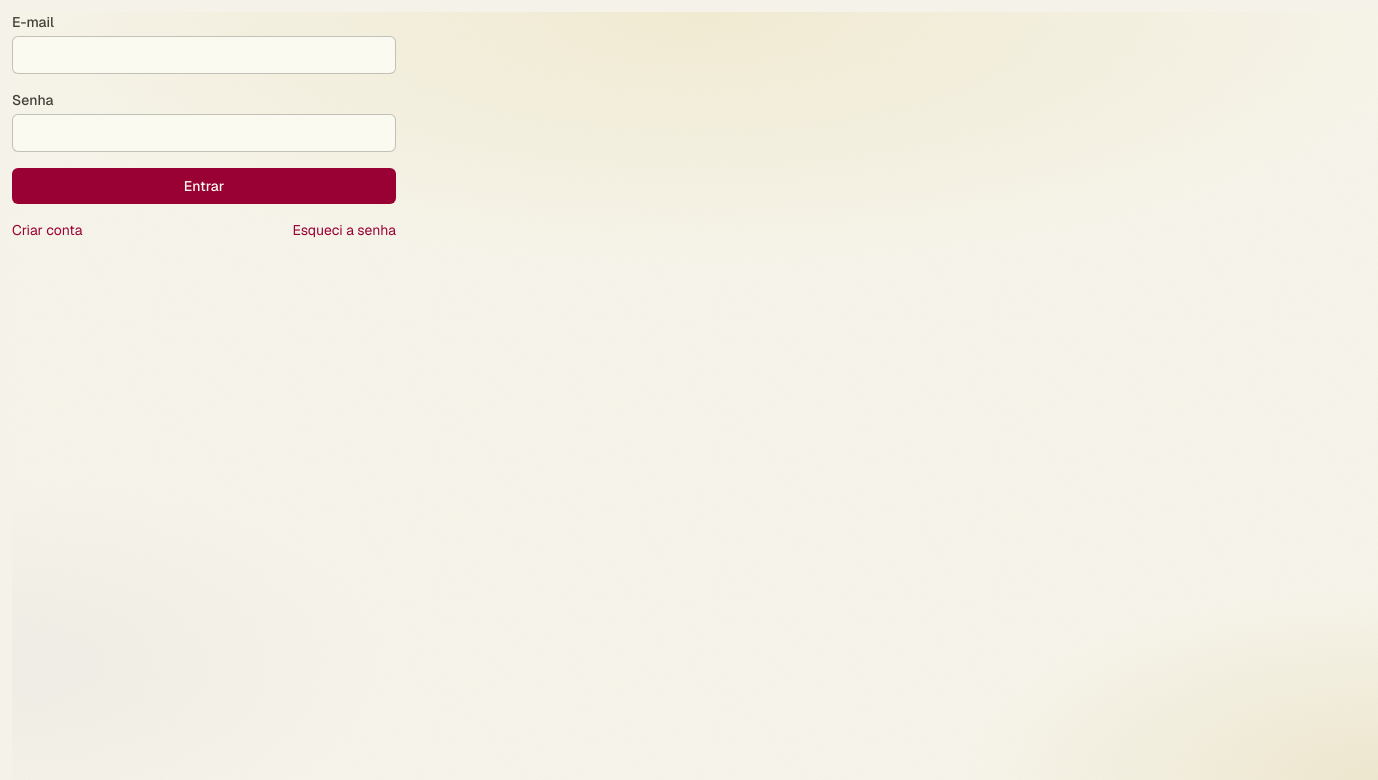
it: quando as credenciais são recusadas › deve apontar a caixa de entrada de dev quando o e-mail não está verificado
In the field labelled "E-mail": (204, 55) 12,36 -> 396,74, type "aria@teste.dev"
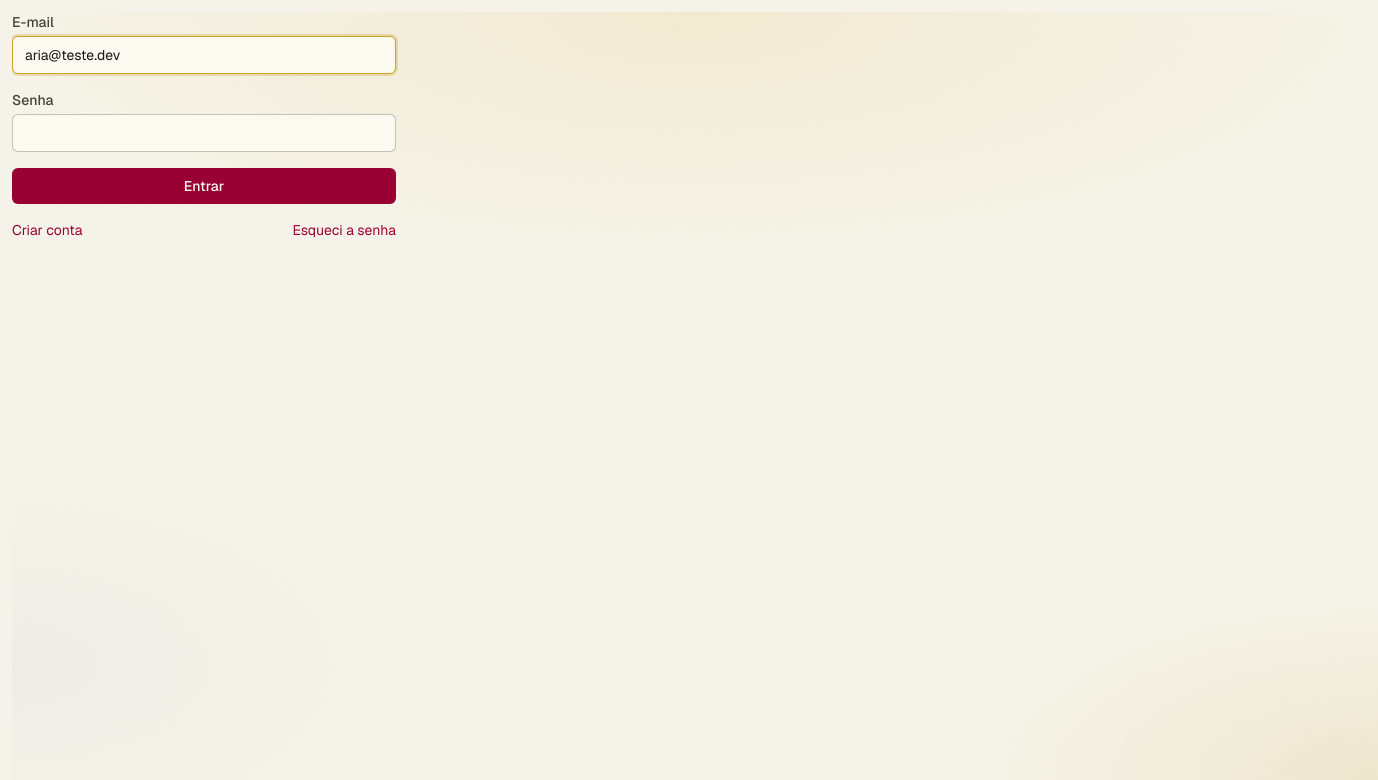
In the password field labelled "Senha": (204, 133) 12,114 -> 396,152, type "senha-segura"
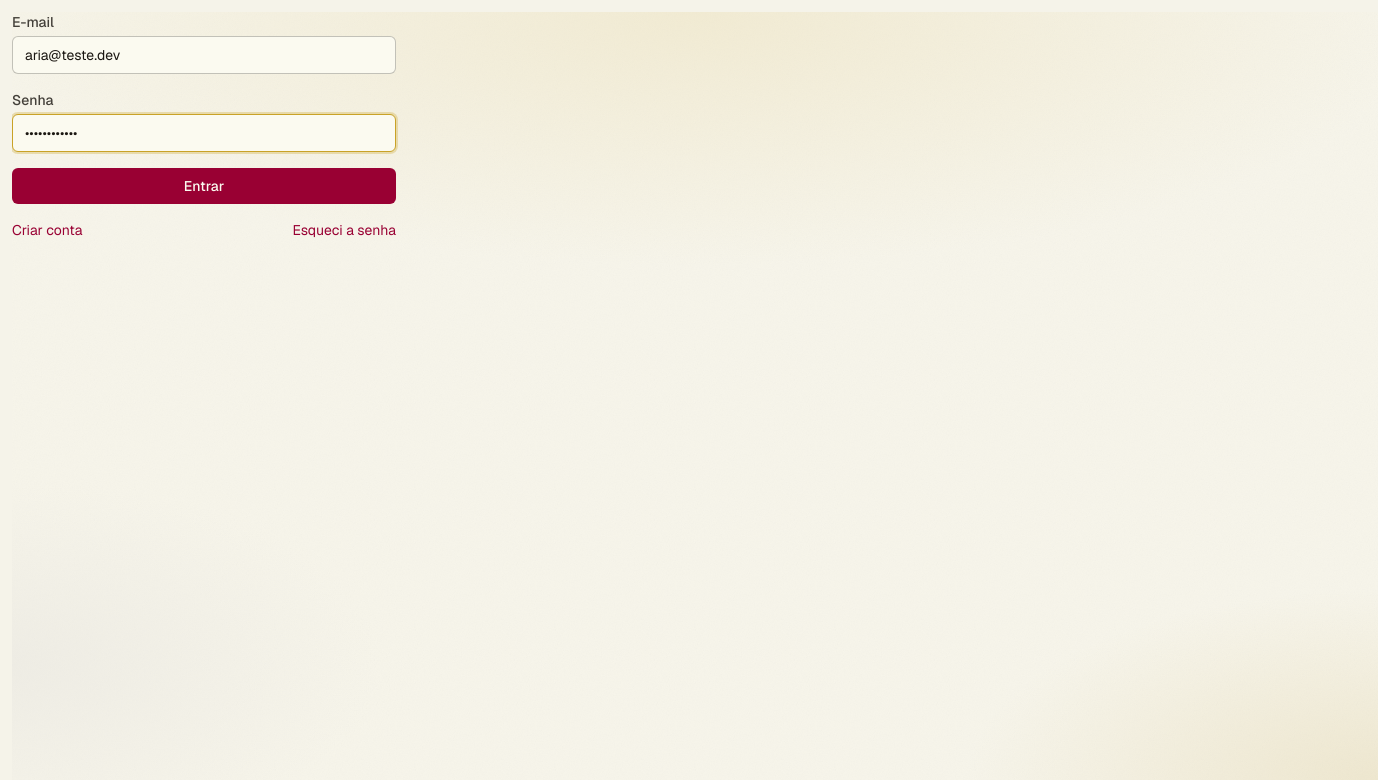
Click the button "Entrar": (204, 186) 12,168 -> 396,204
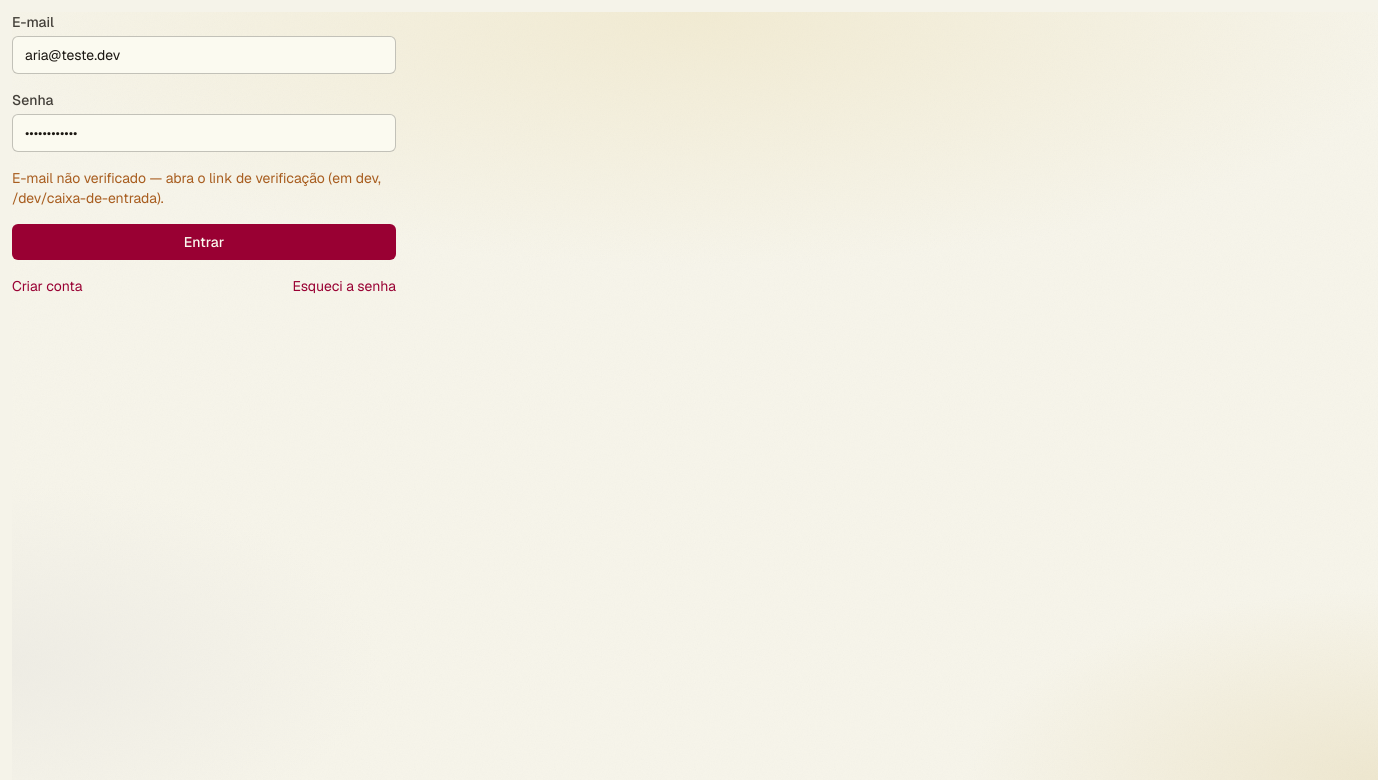
Expected: the message shows "caixa-de-entrada", 12,169 -> 381,207
